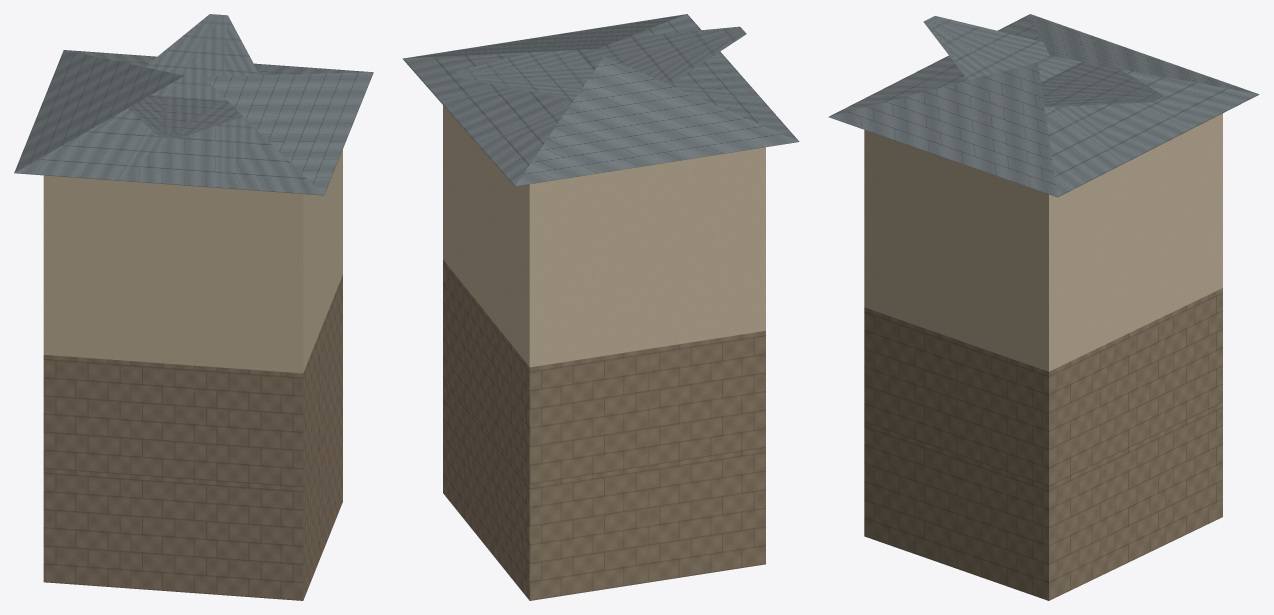
The model's file is bld_c39_33_291.gltf.
The picture shows the model from 3 angles, left to right: view 1: azimuth 30°, elevation 25°; view 2: azimuth 150°, elevation 25°; view 3: azimuth 270°, elevation 25°; orthographic projection. The views are drawn at different scales.
Parts seen in each view (by area): view 1: bld_c39_33_291; view 2: bld_c39_33_291; view 3: bld_c39_33_291.
Boxes of the visible parts, bbox=[...] form: bld_c39_33_291: bbox=[14, 14, 373, 600]; bld_c39_33_291: bbox=[402, 14, 799, 600]; bld_c39_33_291: bbox=[828, 14, 1259, 600].
Bounding box in the file's own units: 8.42 × 10 × 8.37.
Materials: 3 (3 with a texture image).
